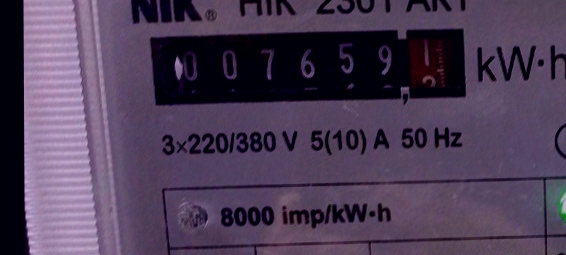0: (218, 45, 241, 82), (179, 45, 200, 85)
1: (418, 33, 434, 69)
5: (336, 39, 356, 76)
6: (296, 44, 318, 80)
7: (256, 44, 277, 82)
9: (374, 40, 395, 77)
screen: (141, 22, 475, 113)
